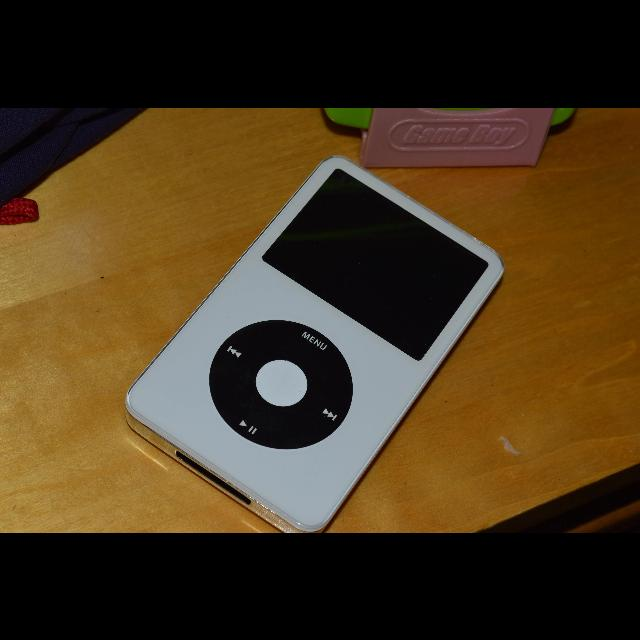Music-Player: (115, 148, 513, 532)
